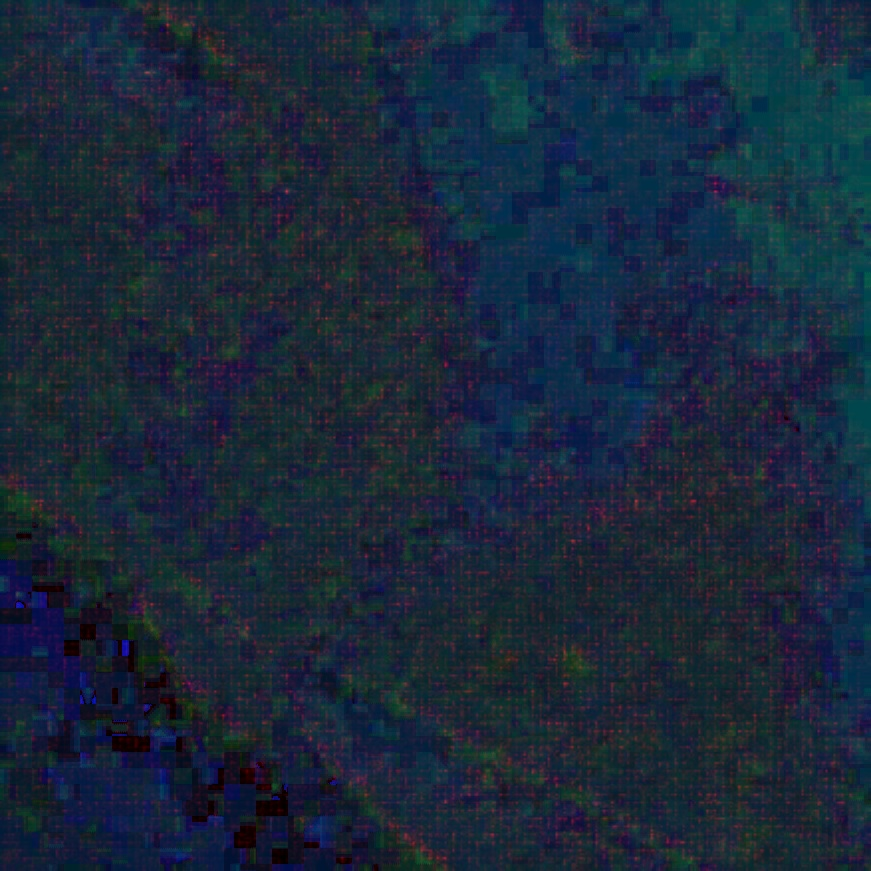rip_current: (321, 198, 676, 610)
